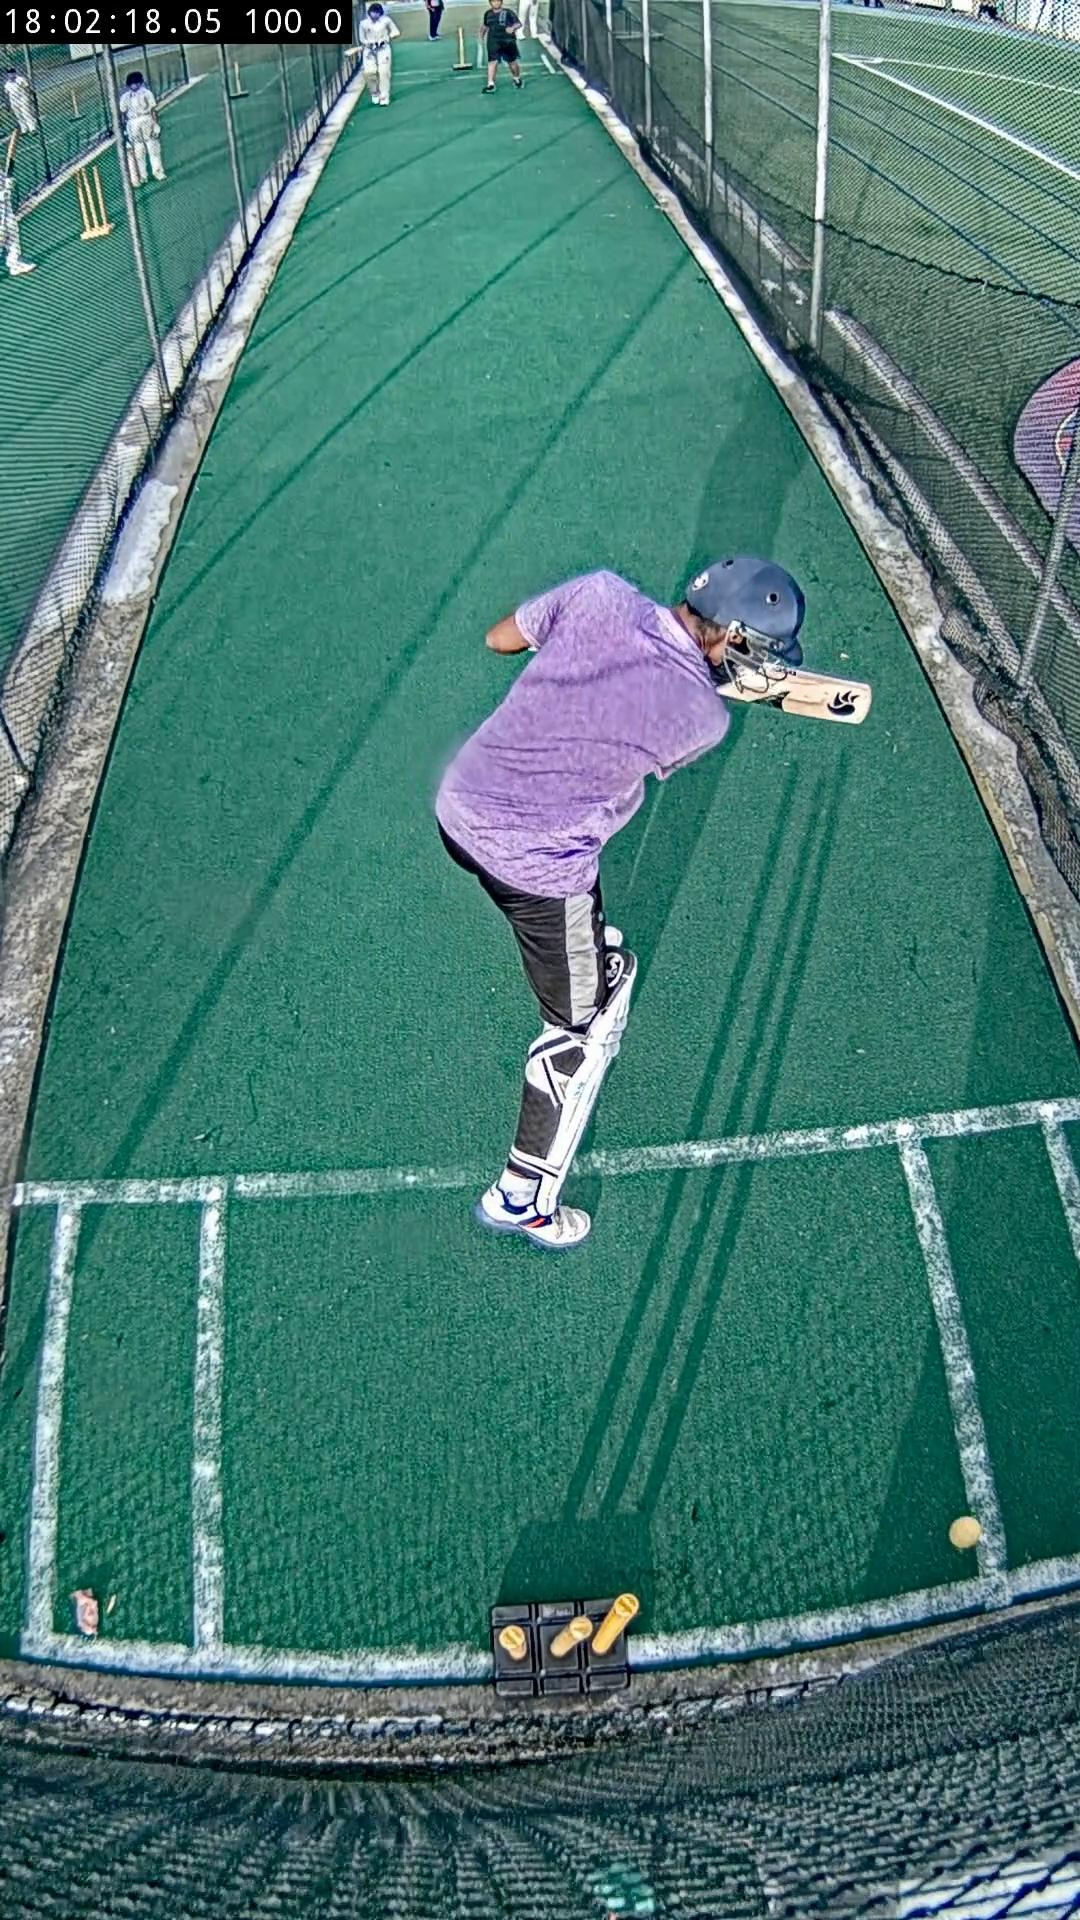ball: (948, 1515, 982, 1548)
bat: (781, 671, 870, 724)
helmet: (686, 555, 806, 698)
pads: (537, 948, 637, 1215)
stumps: (492, 1594, 641, 1698)
